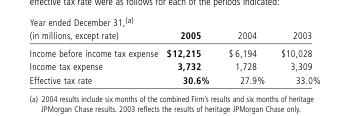table: (28, 29, 319, 84)
table column: (28, 29, 161, 84), (161, 29, 218, 84), (218, 29, 272, 84), (272, 29, 319, 84)
table column header: (28, 29, 319, 43)
table row: (28, 43, 319, 59), (28, 29, 319, 43), (28, 59, 319, 72), (28, 72, 319, 84)
